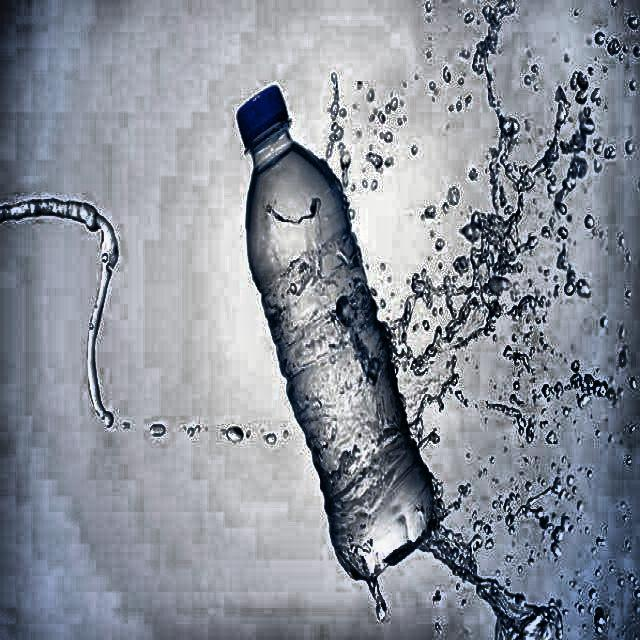plastic bottle: (237, 85, 434, 579)
